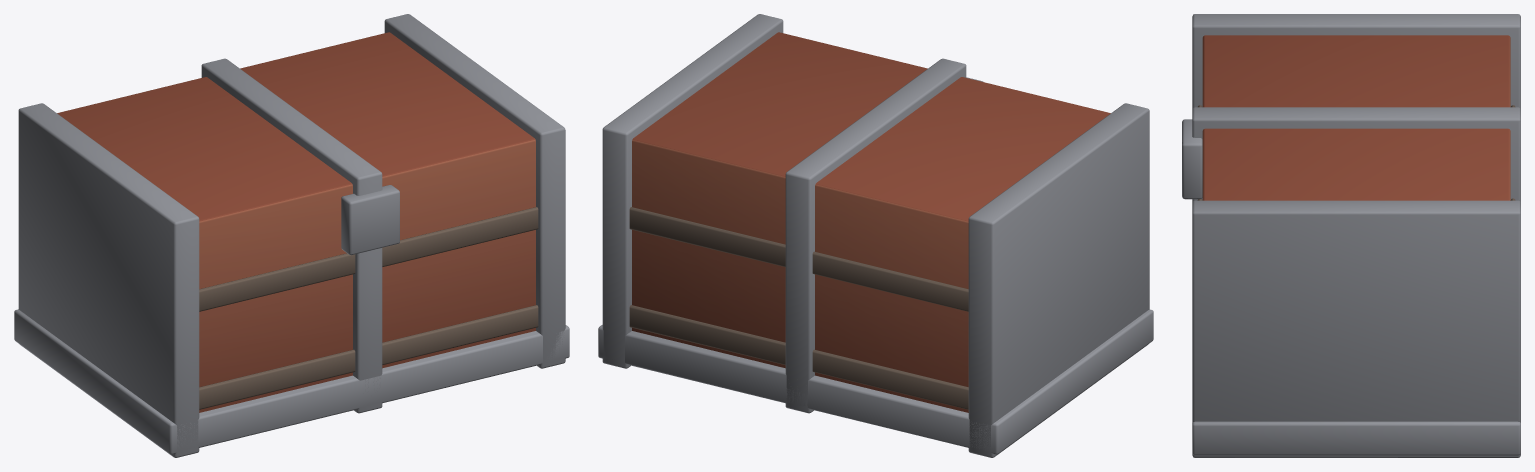
The model's file is chest_body.glb.
3 renders of one model, left to right at view 1: azimuth 30°, elevation 25°; view 2: azimuth 150°, elevation 25°; view 3: azimuth 270°, elevation 25°, orthographic. The views are drawn at different scales.
Parts seen in each view (by area): view 1: chest_body; view 2: chest_body; view 3: chest_body.
Boxes of the visible parts, left/top/right/bottom form: chest_body: left=14, top=14, right=569, bottom=457; chest_body: left=598, top=14, right=1153, bottom=457; chest_body: left=1182, top=14, right=1520, bottom=457.
Bounding box in the file's own units: 0.94 × 0.53 × 0.66.
Materials: 2 (1 with a texture image).
